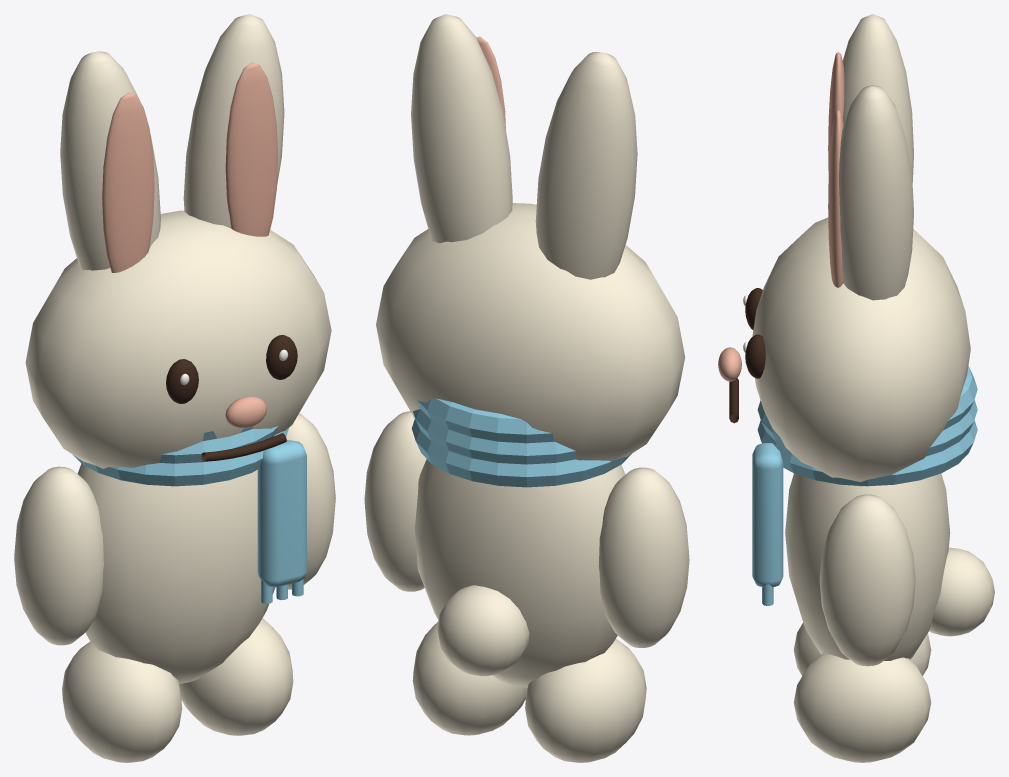
File: mimi.glb
The picture shows the model from 3 angles, left to right: view 1: azimuth 30°, elevation 25°; view 2: azimuth 150°, elevation 25°; view 3: azimuth 270°, elevation 25°; orthographic projection. The views are drawn at different scales.
Parts seen in each view (by area): view 1: Head.001, Body.001, Arm_L.001, Foot_L.001, RabbitEar, RabbitEar.001, Foot_R.001, EarInner.002, EarInner.003, ScarfEnd, Arm_R.001, KnittedScarf (+5 smaller); view 2: Head.001, Body.001, RabbitEar, RabbitEar.001, Arm_L.001, Foot_L.001, Arm_R.001, Foot_R.001, RabbitTail, KnittedScarf, KnittedScarf.001, KnittedScarf.002 (+1 smaller); view 3: Head.001, RabbitEar.001, Body.001, Arm_R.001, Foot_R.001, RabbitEar, ScarfEnd, RabbitTail, KnittedScarf, EarInner.003, KnittedScarf.001, Foot_L.001 (+4 smaller).
Part boxes in pixels (x1,y1,x2,y2): Head.001: [25, 210, 331, 468]; Body.001: [77, 464, 275, 683]; Arm_L.001: [14, 466, 103, 645]; Foot_L.001: [62, 641, 182, 762]; RabbitEar: [60, 51, 160, 270]; RabbitEar.001: [183, 14, 284, 228]; Foot_R.001: [179, 618, 293, 735]; EarInner.002: [102, 92, 154, 272]; EarInner.003: [225, 62, 278, 236]; ScarfEnd: [257, 440, 306, 586]; Arm_R.001: [286, 413, 335, 589]; KnittedScarf: [72, 428, 288, 486]; Head.001: [376, 203, 685, 460]; Body.001: [414, 459, 625, 687]; RabbitEar: [535, 52, 637, 279]; RabbitEar.001: [411, 14, 512, 243]; Arm_L.001: [598, 467, 689, 647]; Foot_L.001: [525, 639, 646, 762]; Arm_R.001: [364, 411, 426, 591]; Foot_R.001: [412, 622, 527, 735]; RabbitTail: [437, 585, 529, 676]; KnittedScarf: [411, 419, 631, 487]; KnittedScarf.001: [413, 409, 575, 464]; KnittedScarf.002: [417, 398, 554, 443]; Head.001: [752, 217, 970, 486]; RabbitEar.001: [839, 85, 913, 300]; Body.001: [785, 473, 950, 660]; Arm_R.001: [819, 494, 915, 666]; Foot_R.001: [793, 653, 931, 762]; RabbitEar: [842, 14, 913, 181]; ScarfEnd: [752, 443, 783, 587]; RabbitTail: [929, 547, 994, 636]; KnittedScarf: [757, 420, 977, 486]; EarInner.003: [828, 110, 843, 287]; KnittedScarf.001: [757, 400, 977, 456]; Foot_L.001: [793, 623, 931, 675].
Bounding box in the file's own units: 1 × 2.19 × 0.805.
